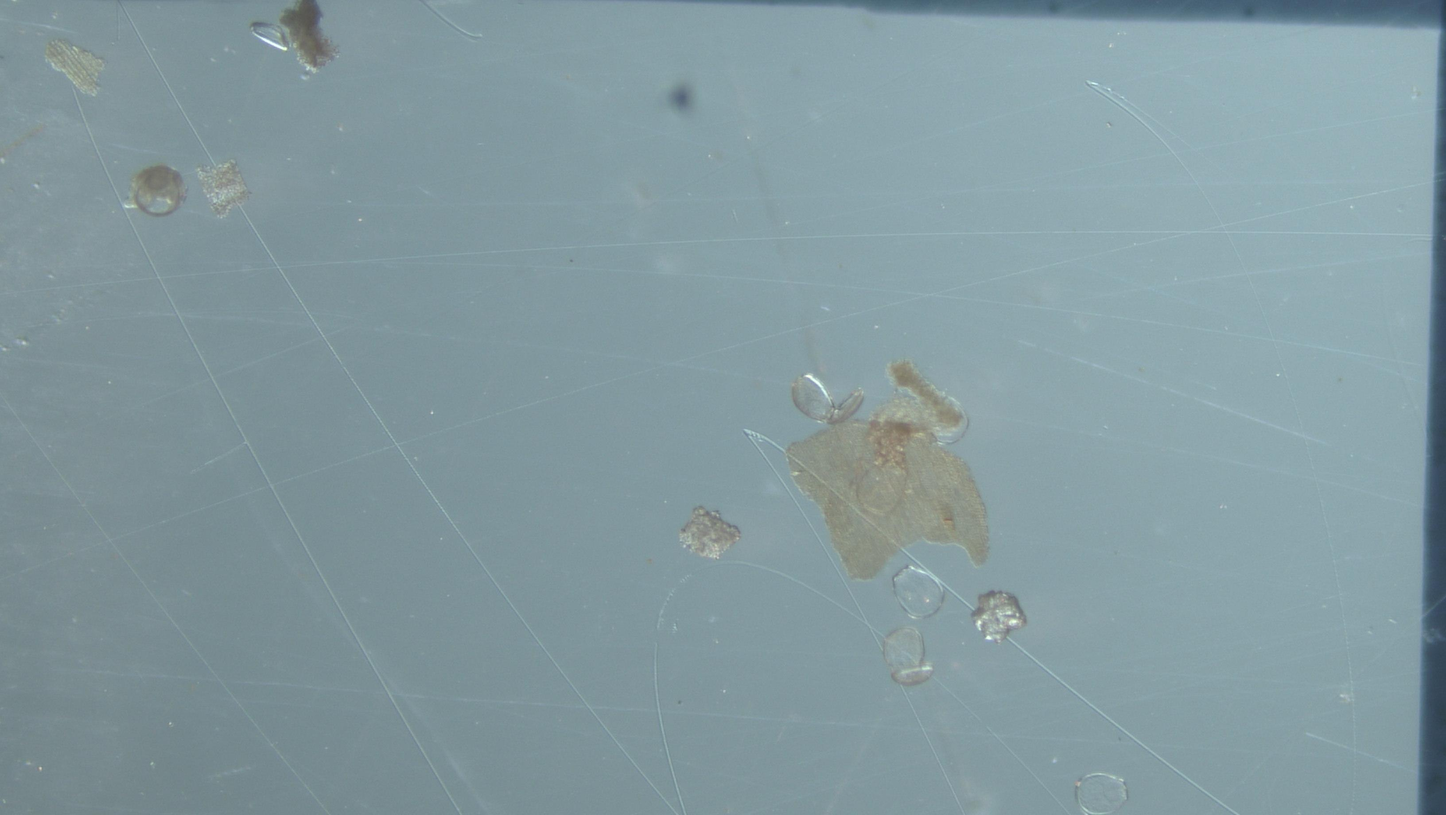dead: (882, 627, 934, 687), (792, 376, 862, 420), (893, 566, 948, 619), (1076, 773, 1128, 815)
live: (129, 164, 187, 217)
